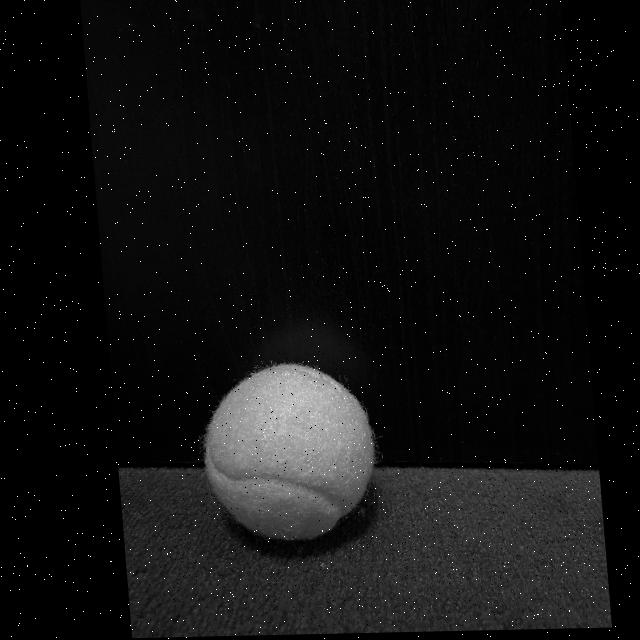Tennisball: (204, 363, 375, 540)
